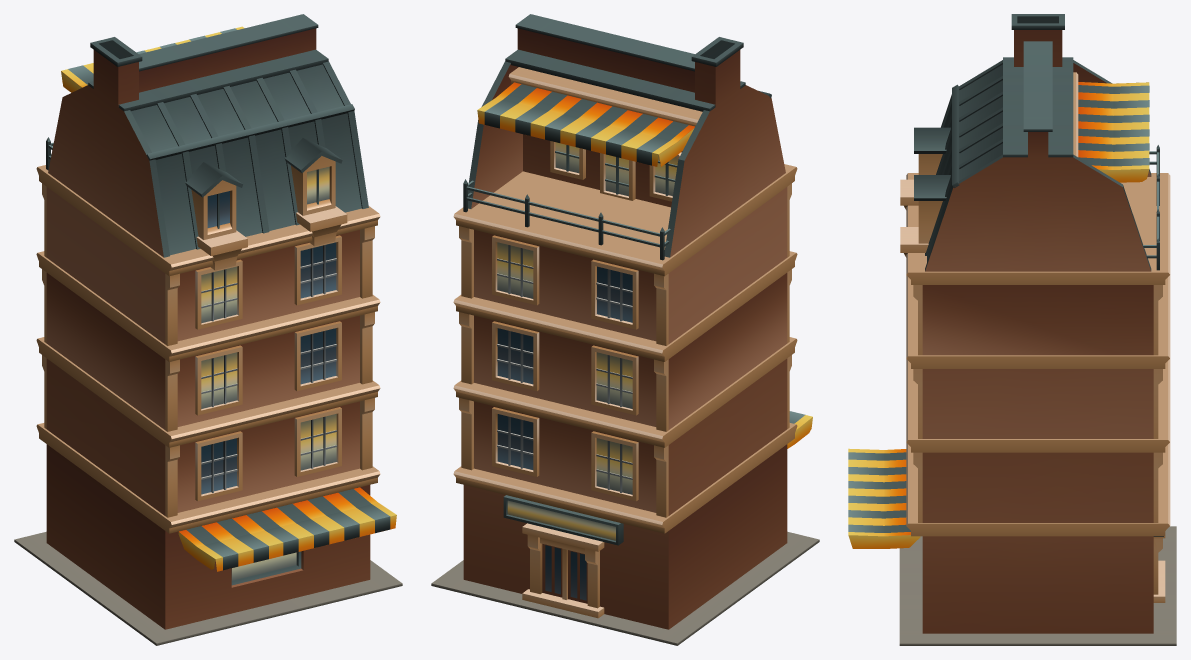
Rendered from BLD1210018.fbx.
3 renders of one model, left to right at view 1: azimuth 30°, elevation 25°; view 2: azimuth 150°, elevation 25°; view 3: azimuth 270°, elevation 25°, orthographic. The views are drawn at different scales.
Parts seen in each view (by area): view 1: smBLD1210018; view 2: smBLD1210018; view 3: smBLD1210018.
Boxes of the visible parts, box(x1,y1,x2,y2) form: smBLD1210018: box(14, 14, 402, 645); smBLD1210018: box(431, 14, 819, 645); smBLD1210018: box(848, 14, 1176, 645).
Bounding box in the file's own units: 1087 × 2266 × 1288.
Materials: 1 (1 with a texture image).
